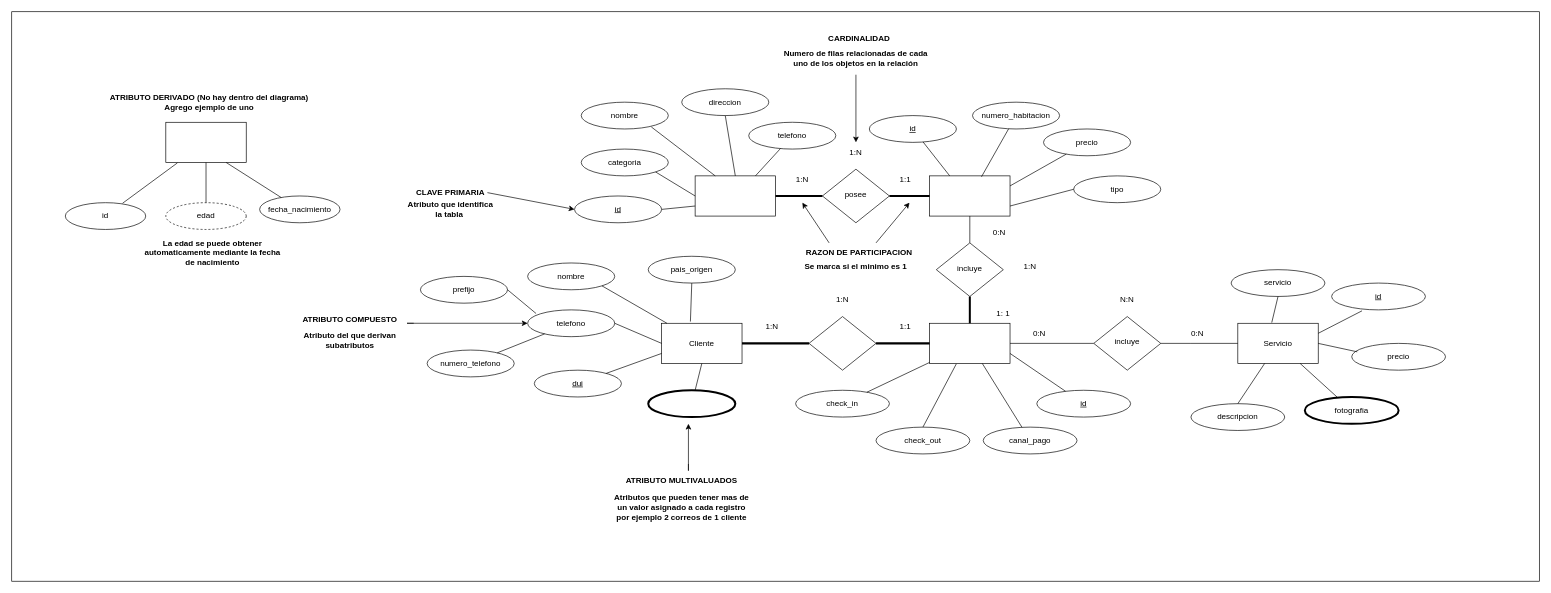
The diagram is 1551 pixels wide and 593 high, and some of its shapes have lost their labels. Each missing label, with the centre of its shape:
"correos" goes at (691,403).
"Habitacion" goes at (969,195).
"Hotel" goes at (735,195).
"Persona" goes at (205,142).
"realiza" goes at (842,343).
"Reserva" goes at (969,343).
